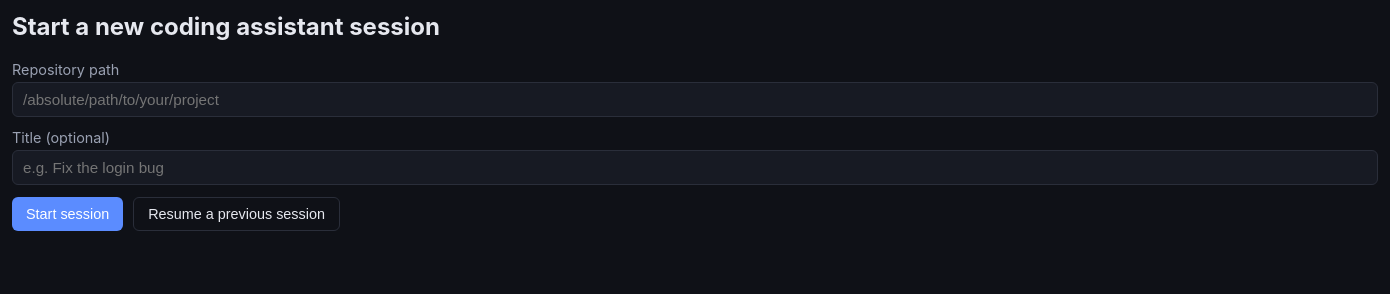
StartSessionPage › shows a friendly error when session creation fails
In the field with test id "repository-path-input": (695, 99) [12, 82, 1378, 117], type "/no/such/path"
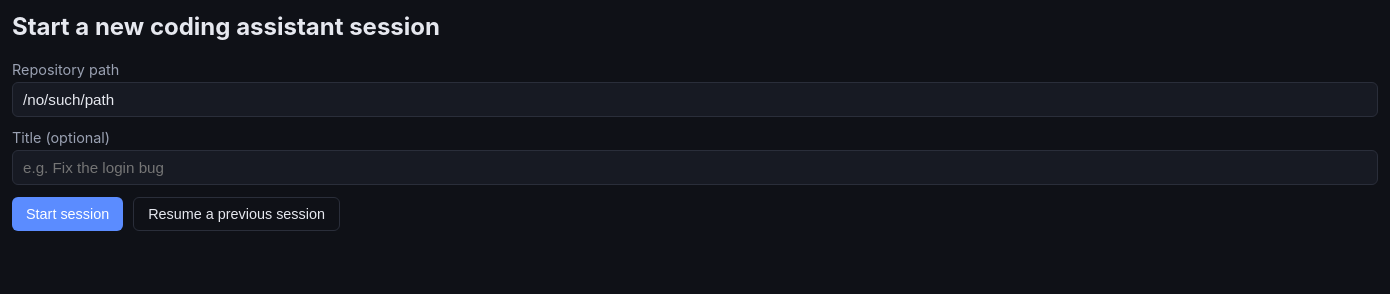
Click the button with test id "start-session-submit": (68, 214) [12, 197, 123, 231]
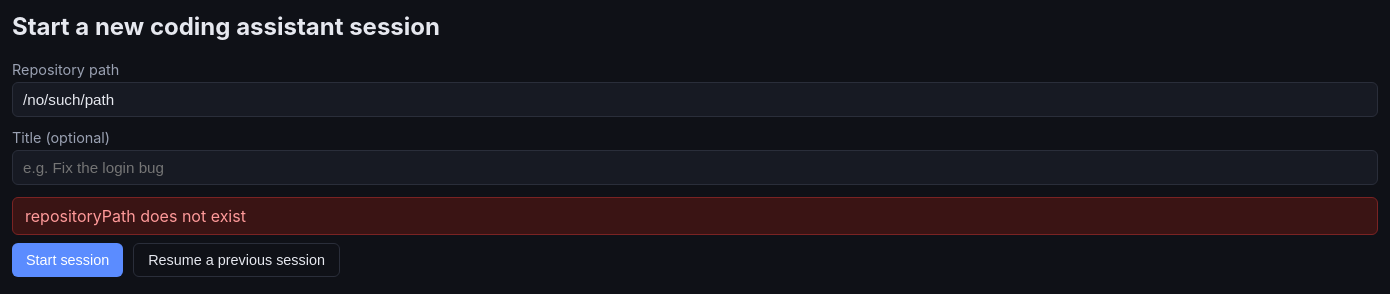
Expected: the text with test id "start-session-error" shows "does not exist", [25, 206, 246, 226]
